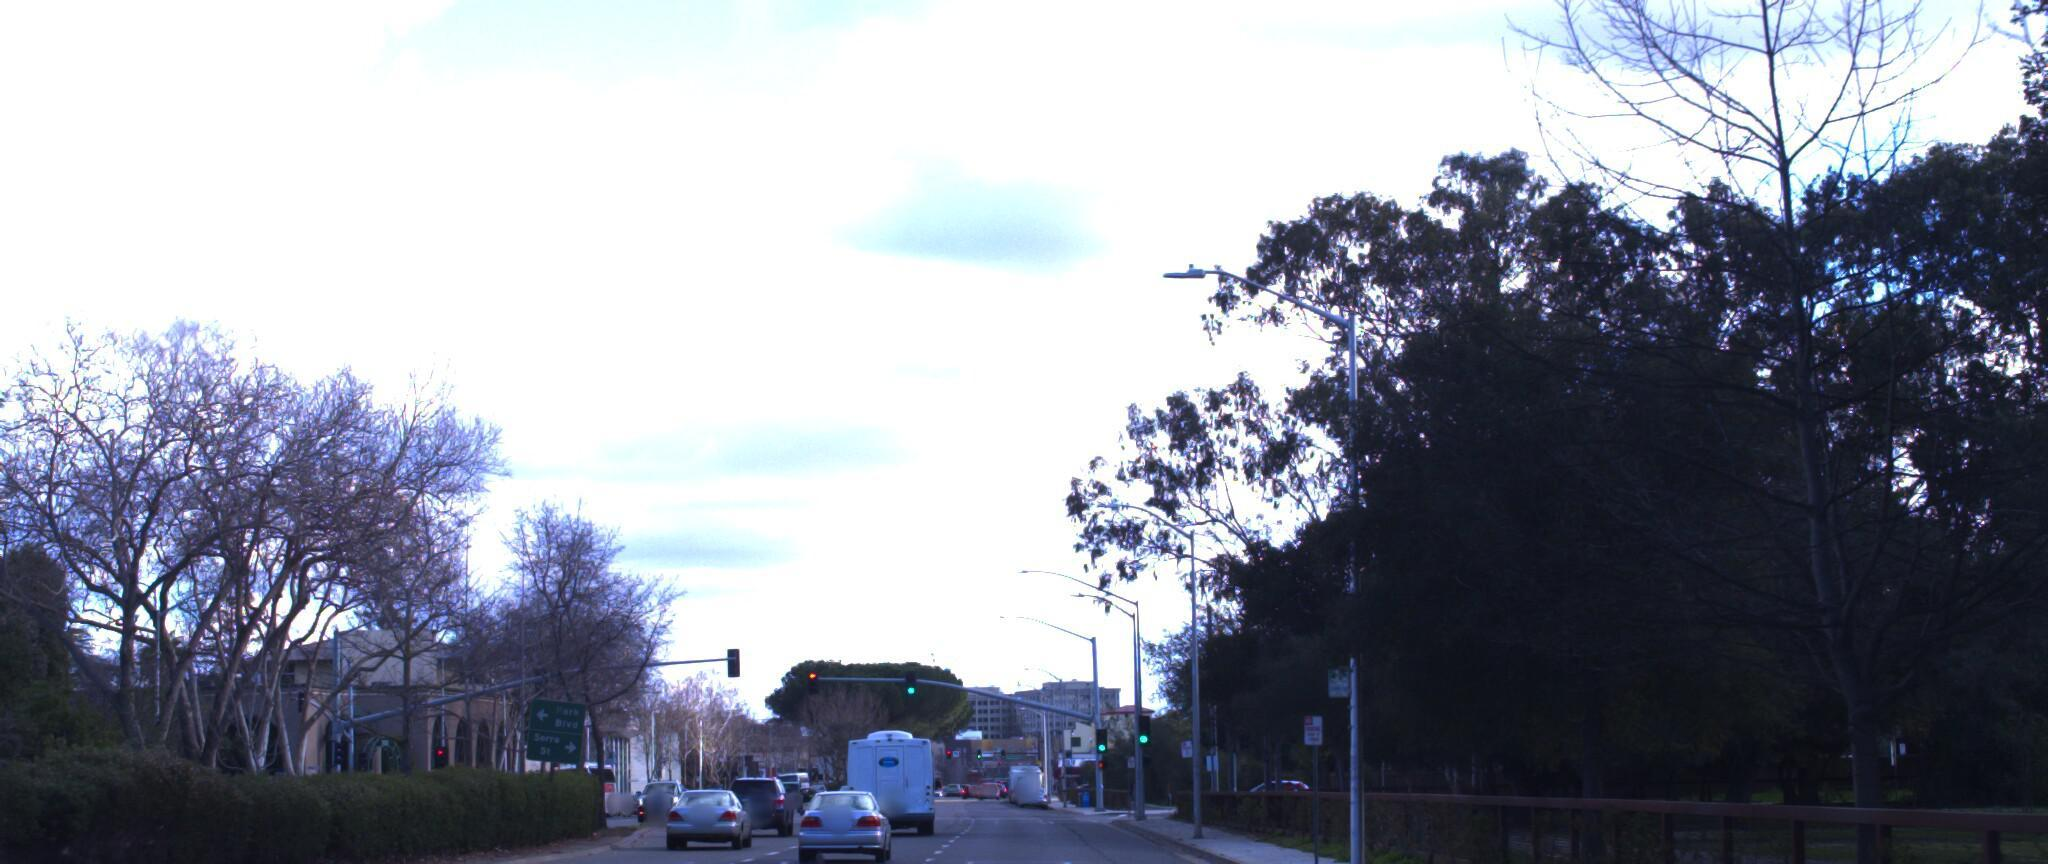car: (792, 764, 897, 850), (669, 760, 763, 827)
